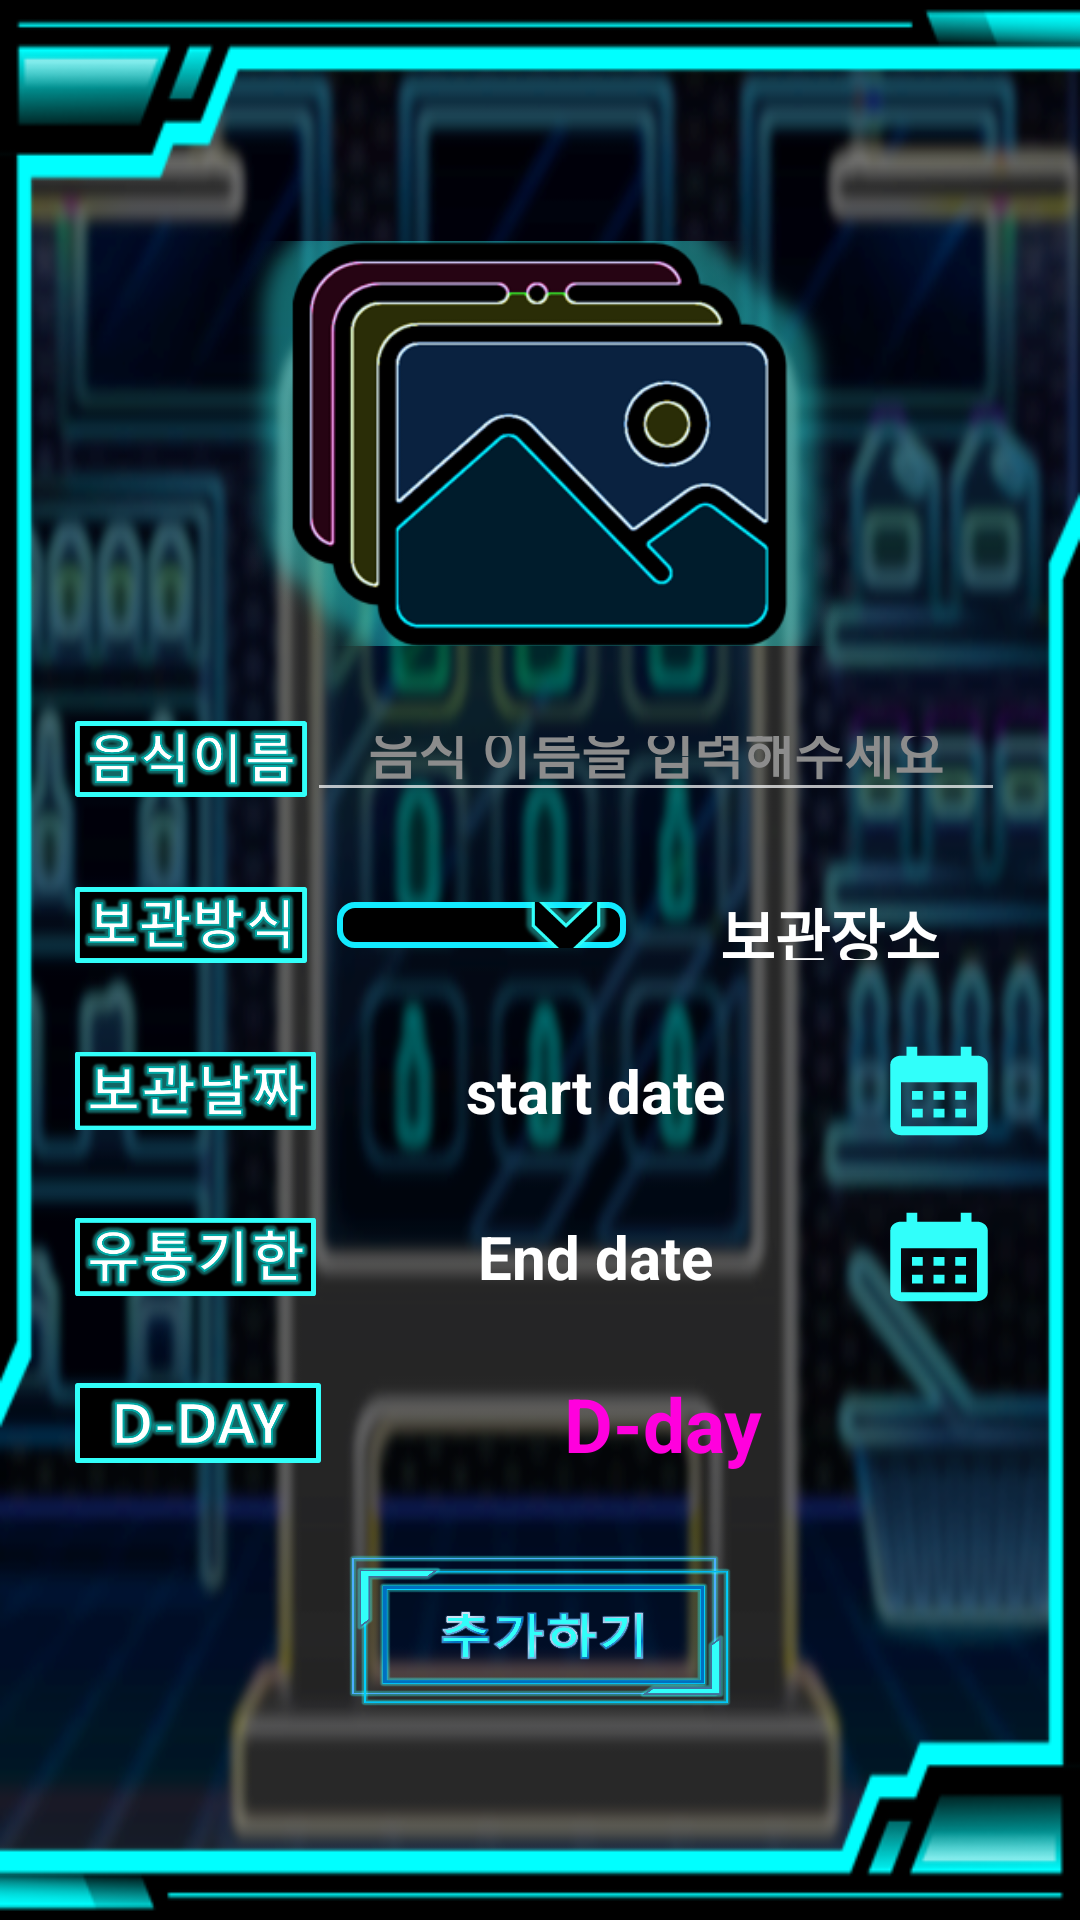

Icon bounding boxes for this 1080px×1920px phone screenshot, format (x1, y1, x2, y2):
calendar month: (874, 1038, 998, 1139), (874, 1212, 988, 1310)
